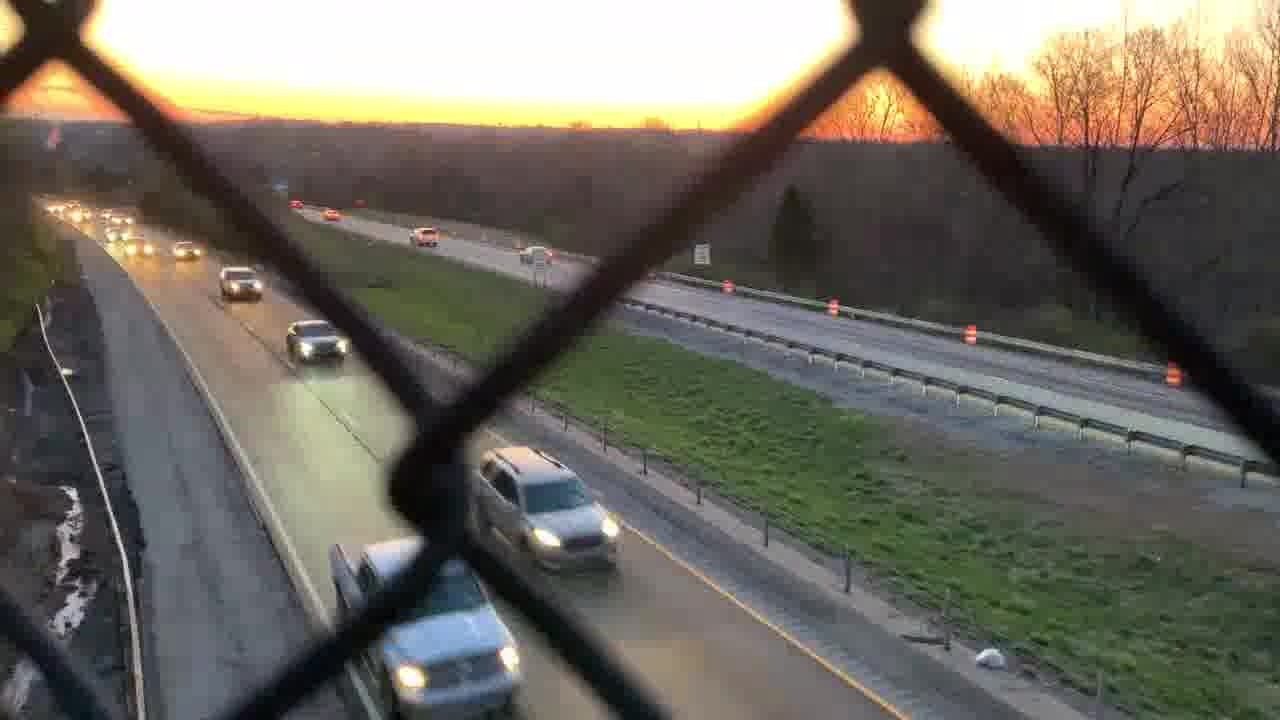largeCar: (473, 448, 635, 569), (218, 263, 267, 306)
lightTruck: (321, 537, 536, 713)
smallCar: (282, 318, 354, 365)
